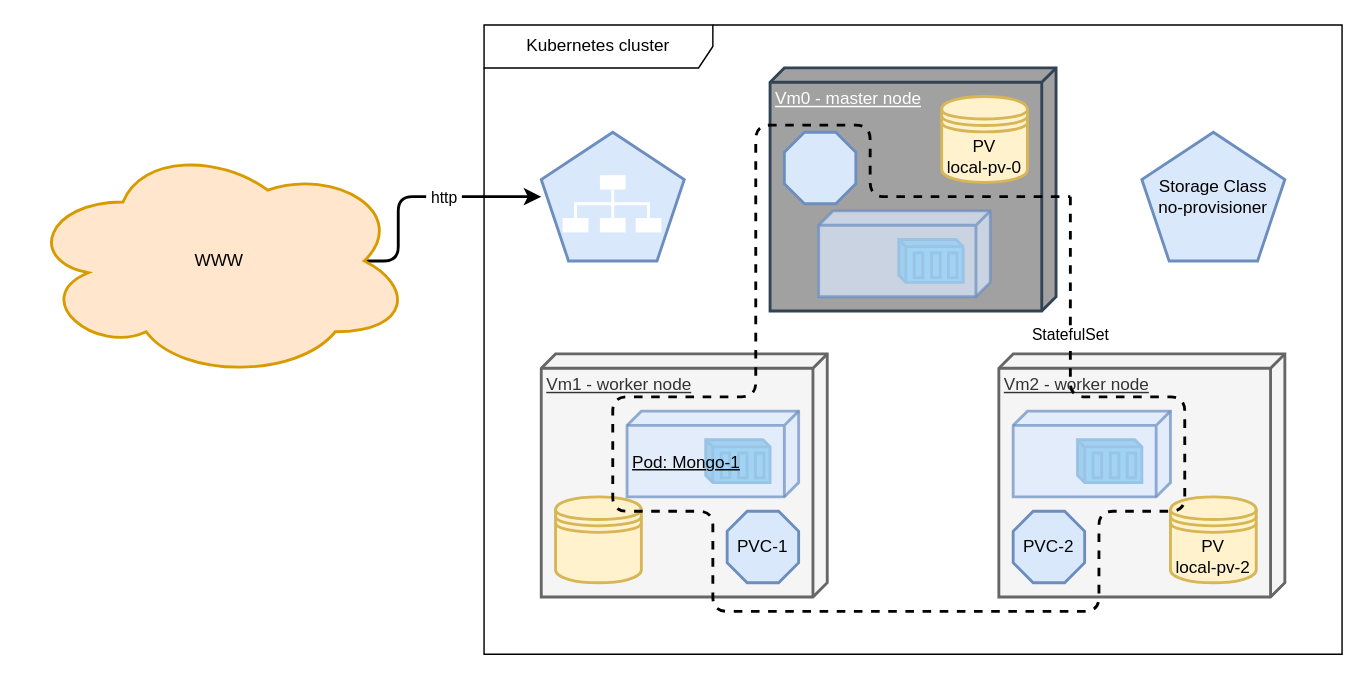
The diagram is 1367 pixels wide and 679 high, and some of its shapes have lost their labels. The shapes that lost their labels are listed below. From the top down, each one's centre as x and y in pixels, then its label:
At point 819,167: "PVC-0".
At point 612,196: "NGINX LoadBalancer Service".
At point 904,253: "Pod: Mongo-0".
At point 1091,453: "Pod: Mongo-2".
At point 597,539: "PV local-pv-1".
